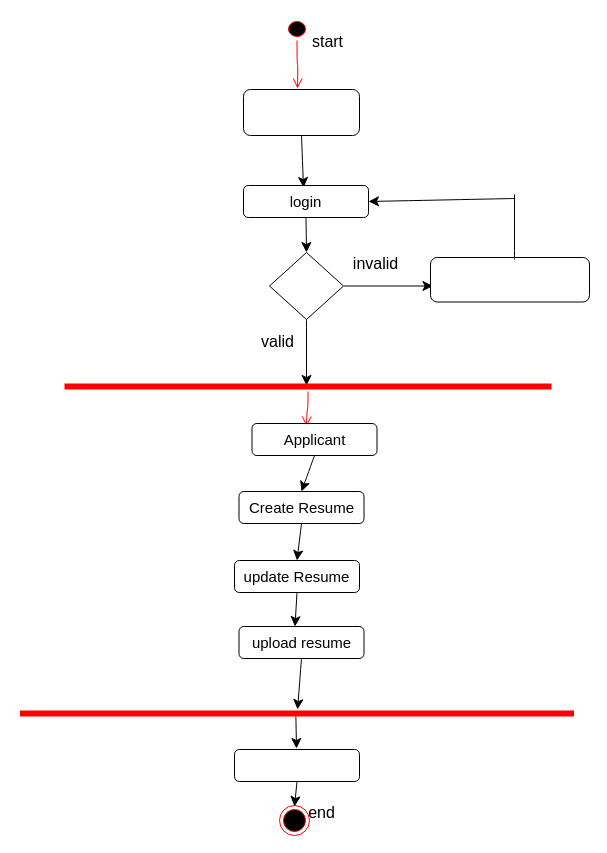
The diagram is 607 pixels wide and 853 high, and some of its shapes have lost their labels. The shapes that lost their labels are listed below. From the top down, each one's centre as x and y in pixels, then its label:
At [301,112]: "Applicant is registered".
At [510,279]: "Re-entered username and password".
At [297,765]: "logout".
